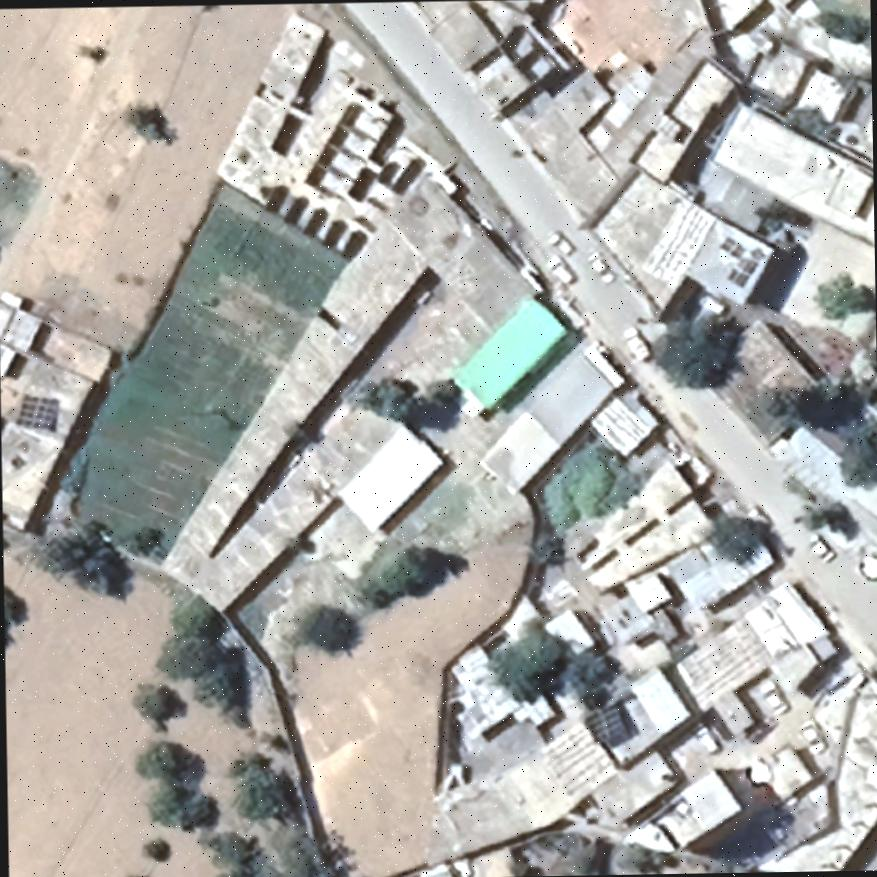Solarpanel: (707, 234, 767, 294), (580, 701, 628, 748), (12, 392, 61, 434)
